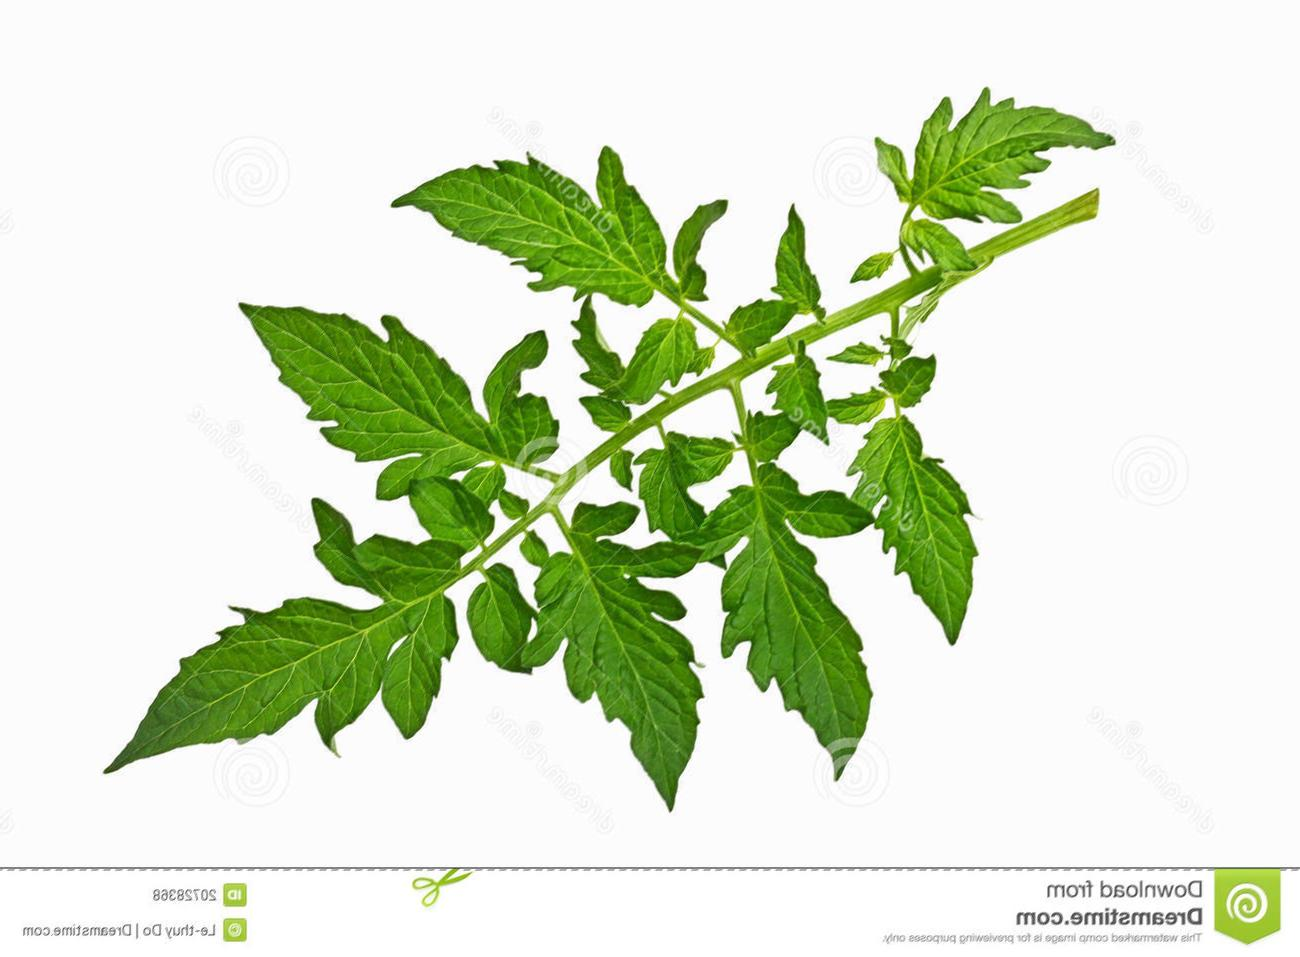Tomato leaf: (69, 576, 430, 792), (681, 446, 898, 778), (519, 484, 710, 818), (212, 298, 529, 498), (350, 156, 724, 324), (850, 52, 1124, 264), (818, 395, 1006, 630)
